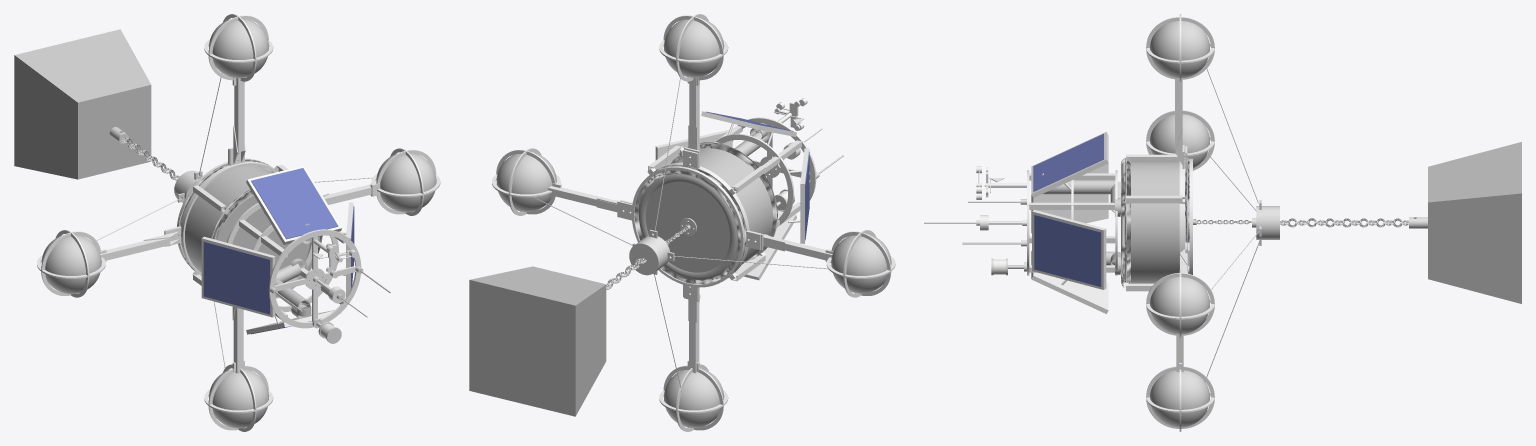
File: FALCON-01.glb
3 views of the same model, side by side, from view 1: azimuth 30°, elevation 25°; view 2: azimuth 150°, elevation 25°; view 3: azimuth 270°, elevation 25° (orthographic).
Visible parts, largest first — view 1: ANCHOR_REINFORCED_CONCRETE_BODY, UPPER_FRAME_6061_BODY, SOLAR_PANEL_04_MONOCRYSTALLINE_FACE, SOLAR_PANEL_01_MONOCRYSTALLINE_FACE, MAIN_FLOAT_HDPE_BODY, STABILIZER_BUOY_01_HDPE_BODY, STABILIZER_BUOY_04_HDPE_BODY, STABILIZER_BUOY_02_HDPE_BODY, STABILIZER_BUOY_03_HDPE_BODY, TOP_CAP_HDPE_BODY, FRAME_6061_COLLAR_BODY, STABILIZER_ARM_UNIT_03_6061_BODY (+13 smaller); view 2: ANCHOR_REINFORCED_CONCRETE_BODY, MAIN_FLOAT_HDPE_BODY, UPPER_FRAME_6061_BODY, FRAME_6061_COLLAR_BODY, STABILIZER_BUOY_03_HDPE_BODY, STABILIZER_BUOY_02_HDPE_BODY, STABILIZER_BUOY_01_HDPE_BODY, STABILIZER_BUOY_04_HDPE_BODY, MAIN_FLOAT_HDPE_BODY (1), MAIN_FLOAT_LOWER_ROUNDED_FAIRING_HDPE_BODY, BALLAST_316SS_CORE, STABILIZER_ARM_6061_BODY (+12 smaller); view 3: ANCHOR_REINFORCED_CONCRETE_BODY, MAIN_FLOAT_HDPE_BODY, SOLAR_PANEL_02_MONOCRYSTALLINE_FACE, STABILIZER_BUOY_01_HDPE_BODY, STABILIZER_BUOY_02_HDPE_BODY, STABILIZER_BUOY_04_HDPE_BODY, SOLAR_PANEL_01_MONOCRYSTALLINE_FACE, STABILIZER_BUOY_03_HDPE_BODY, UPPER_FRAME_6061_BODY, SOLAR_PANEL_04_ALUMINUM_FRAME, SOLAR_PANEL_03_ALUMINUM_FRAME, MAIN_FLOAT_UPPER_ROUNDED_FAIRING_HDPE_BODY (+10 smaller).
Part boxes in pixels (<box>): ANCHOR_REINFORCED_CONCRETE_BODY: <box>14,29,151,179</box>; UPPER_FRAME_6061_BODY: <box>226,203,361,328</box>; SOLAR_PANEL_04_MONOCRYSTALLINE_FACE: <box>203,241,270,314</box>; SOLAR_PANEL_01_MONOCRYSTALLINE_FACE: <box>251,168,338,239</box>; MAIN_FLOAT_HDPE_BODY: <box>185,166,272,272</box>; STABILIZER_BUOY_01_HDPE_BODY: <box>376,153,436,212</box>; STABILIZER_BUOY_04_HDPE_BODY: <box>209,370,268,428</box>; STABILIZER_BUOY_02_HDPE_BODY: <box>209,19,268,78</box>; STABILIZER_BUOY_03_HDPE_BODY: <box>41,235,101,294</box>; TOP_CAP_HDPE_BODY: <box>216,194,319,297</box>; FRAME_6061_COLLAR_BODY: <box>165,148,277,275</box>; STABILIZER_ARM_UNIT_03_6061_BODY: <box>229,78,245,165</box>; ANCHOR_REINFORCED_CONCRETE_BODY: <box>469,266,606,416</box>; MAIN_FLOAT_HDPE_BODY: <box>645,148,772,274</box>; UPPER_FRAME_6061_BODY: <box>714,117,816,227</box>; FRAME_6061_COLLAR_BODY: <box>620,149,761,300</box>; STABILIZER_BUOY_03_HDPE_BODY: <box>831,234,891,293</box>; STABILIZER_BUOY_02_HDPE_BODY: <box>664,18,723,77</box>; STABILIZER_BUOY_01_HDPE_BODY: <box>496,152,556,211</box>; STABILIZER_BUOY_04_HDPE_BODY: <box>664,368,723,427</box>; MAIN_FLOAT_HDPE_BODY (1): <box>639,174,736,279</box>; MAIN_FLOAT_LOWER_ROUNDED_FAIRING_HDPE_BODY: <box>634,164,746,284</box>; BALLAST_316SS_CORE: <box>629,229,674,275</box>; STABILIZER_ARM_6061_BODY: <box>548,186,632,220</box>; ANCHOR_REINFORCED_CONCRETE_BODY: <box>1428,142,1521,303</box>; MAIN_FLOAT_HDPE_BODY: <box>1130,161,1179,283</box>; SOLAR_PANEL_02_MONOCRYSTALLINE_FACE: <box>1034,214,1101,286</box>; STABILIZER_BUOY_01_HDPE_BODY: <box>1150,277,1209,334</box>; STABILIZER_BUOY_02_HDPE_BODY: <box>1150,21,1209,78</box>; STABILIZER_BUOY_04_HDPE_BODY: <box>1150,370,1209,427</box>; SOLAR_PANEL_01_MONOCRYSTALLINE_FACE: <box>1033,133,1103,191</box>; STABILIZER_BUOY_03_HDPE_BODY: <box>1150,114,1209,168</box>; UPPER_FRAME_6061_BODY: <box>1027,170,1117,275</box>; SOLAR_PANEL_04_ALUMINUM_FRAME: <box>1031,163,1108,233</box>; SOLAR_PANEL_03_ALUMINUM_FRAME: <box>1031,251,1108,313</box>; MAIN_FLOAT_UPPER_ROUNDED_FAIRING_HDPE_BODY: <box>1121,158,1130,286</box>.
Bounding box in the file's own units: 2.42 × 2.42 × 3.18.
